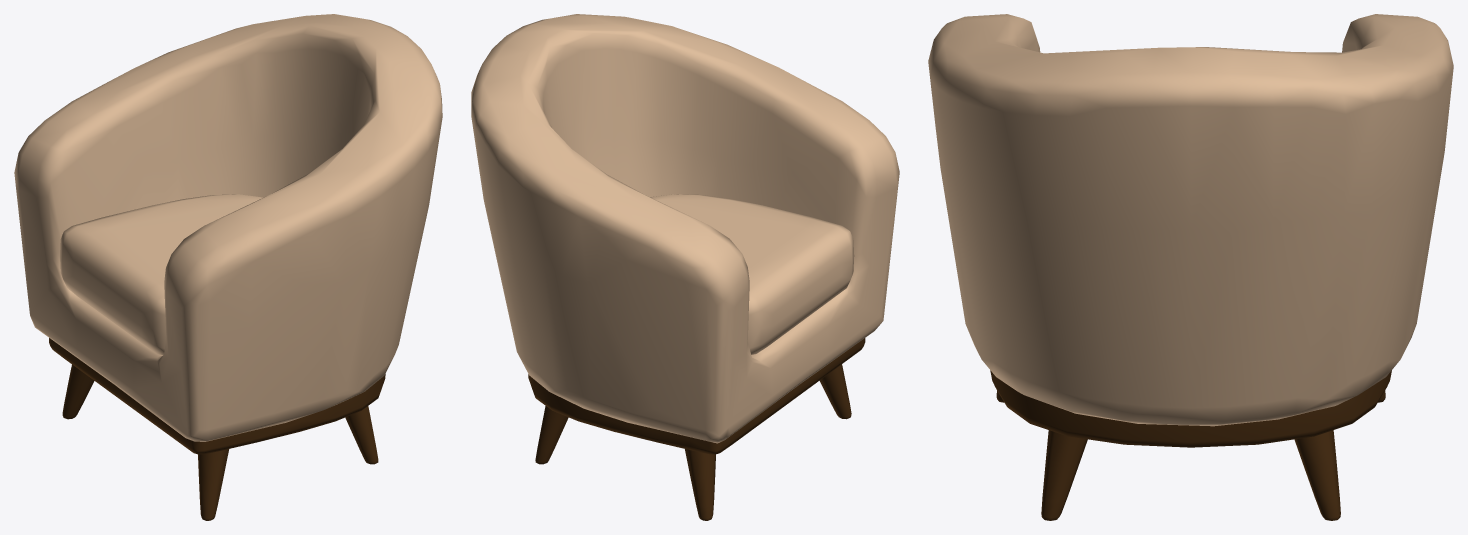
File: armchair_06_beige.fbx
The picture shows the model from 3 angles, left to right: view 1: azimuth 30°, elevation 25°; view 2: azimuth 150°, elevation 25°; view 3: azimuth 270°, elevation 25°; orthographic projection. The views are drawn at different scales.
Parts seen in each view (by area): view 1: armchair_06_beige; view 2: armchair_06_beige; view 3: armchair_06_beige.
Boxes of the visible parts, <box> form: armchair_06_beige: <box>14,14,442,520</box>; armchair_06_beige: <box>471,14,899,520</box>; armchair_06_beige: <box>928,14,1453,520</box>.
Bounding box in the file's own units: 105 × 120 × 114.
Materials: 2 (2 with a texture image).
